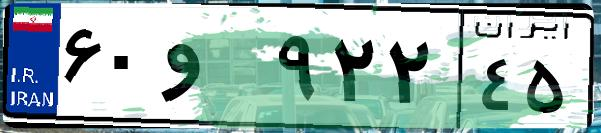0: (110, 28, 158, 98)
2: (385, 28, 445, 110), (330, 28, 385, 110)
4: (475, 38, 525, 113)
5: (525, 38, 570, 115)
6: (57, 26, 110, 100)
9: (270, 28, 330, 110)
و: (158, 20, 270, 120)
